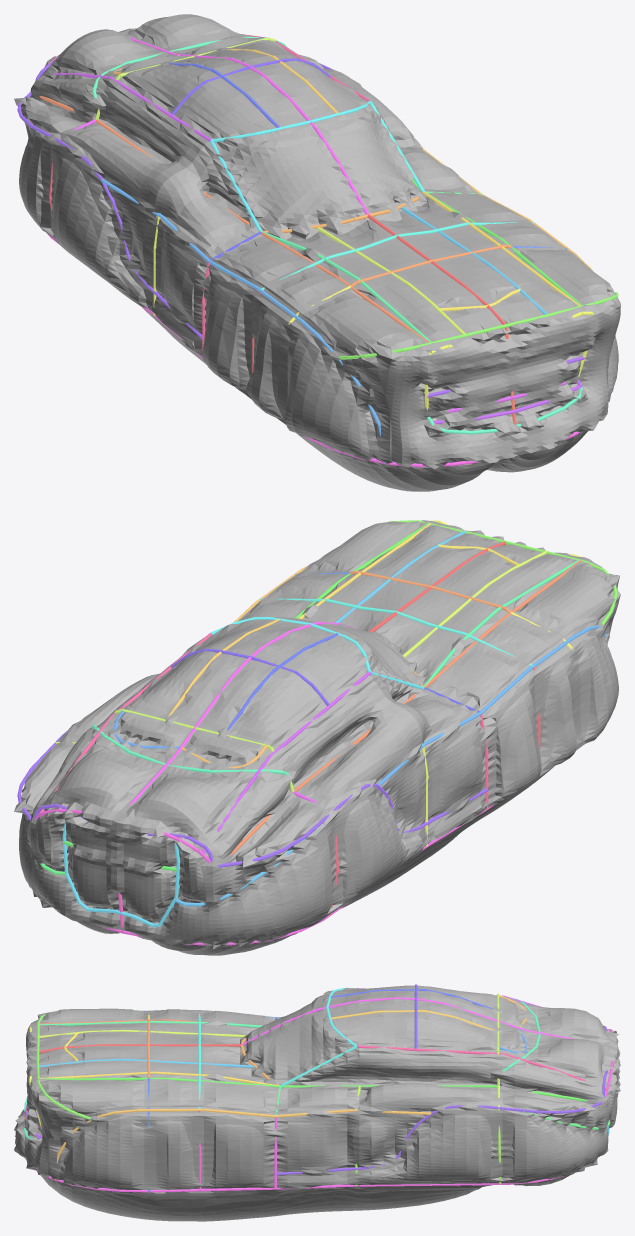
File: t2f_car_97.gltf
3 views of the same model, one above another, from view 1: azimuth 30°, elevation 25°; view 2: azimuth 150°, elevation 25°; view 3: azimuth 270°, elevation 25° (orthographic). The views are drawn at different scales.
Bounding box in the file's own units: 0.4121 × 0.3291 × 0.9169.
